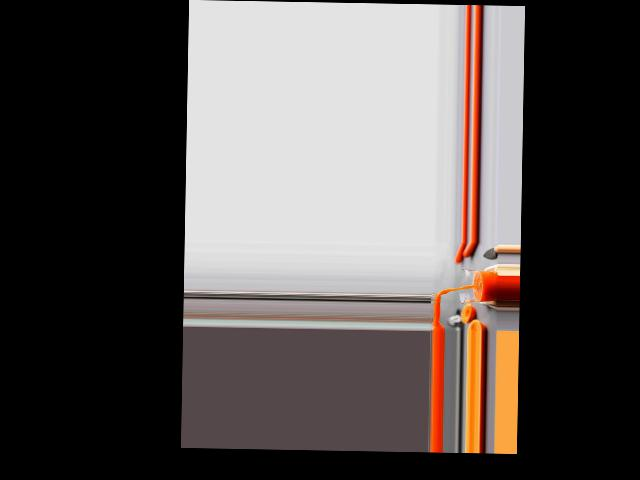carrot: (456, 242, 479, 264)
